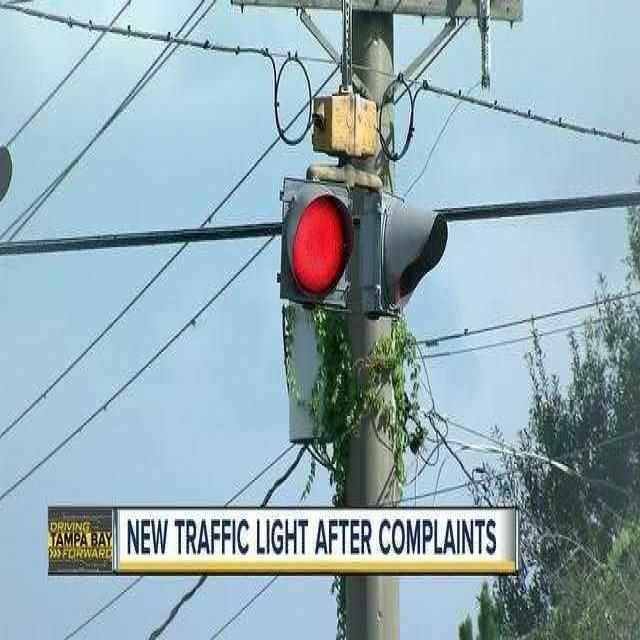Traffic Light -Red-: (273, 166, 355, 328)
